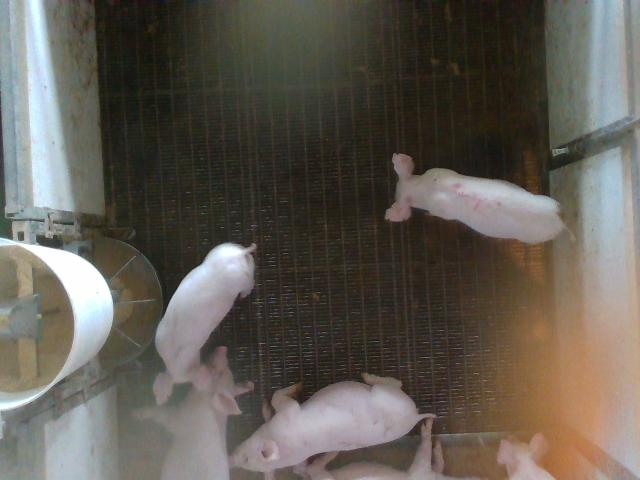pig-5: (385, 154, 568, 243)
